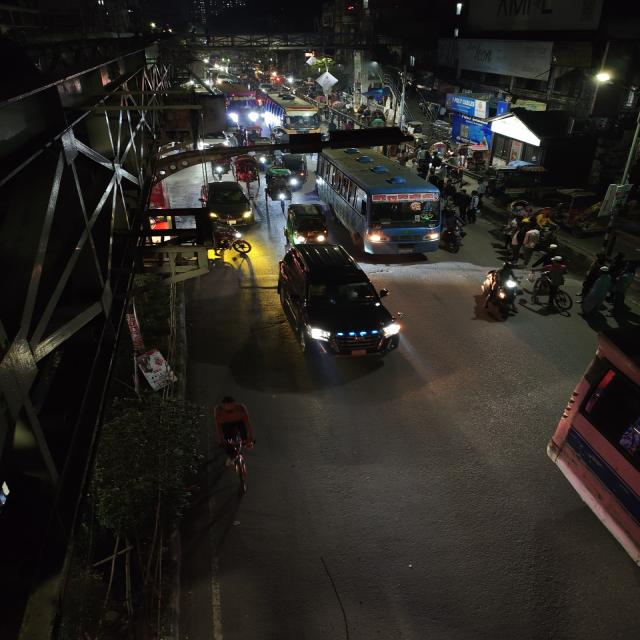bicycle: (213, 386, 263, 496), (534, 269, 573, 313)
bus: (312, 148, 444, 255), (266, 96, 322, 134), (222, 83, 263, 124)
car: (270, 240, 410, 362), (197, 179, 258, 226), (199, 130, 231, 149)
cng: (282, 202, 328, 244), (275, 155, 308, 189)
motorcycle: (476, 260, 526, 314), (438, 223, 468, 253)
pedestrian: (534, 259, 574, 308), (580, 266, 615, 314), (453, 188, 475, 222), (608, 250, 630, 284), (467, 189, 485, 223)
rickshaw: (264, 165, 299, 203), (233, 156, 260, 184)
